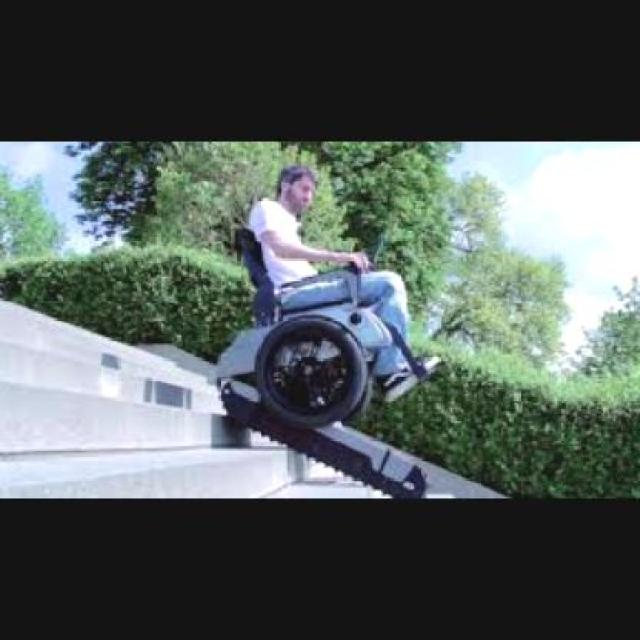wheelchairs: (221, 216, 442, 433)
